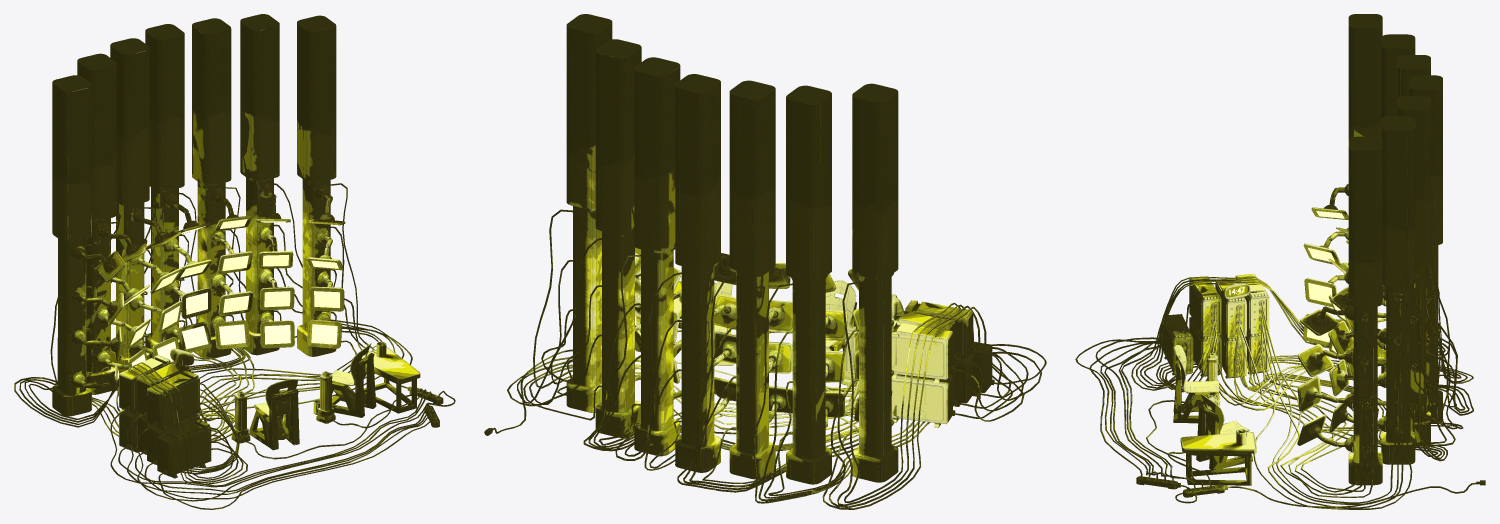
Rendered from Survilence-transformed.glb.
3 renders of one model, left to right at view 1: azimuth 30°, elevation 25°; view 2: azimuth 150°, elevation 25°; view 3: azimuth 270°, elevation 25°, orthographic. The views are drawn at different scales.
Visible parts, largest first — view 1: BezierCurve.002_2, BezierCurve.001_1, BezierCurve.004_4, BezierCurve.003_3; view 2: BezierCurve.002_2, BezierCurve.001_1, BezierCurve.004_4; view 3: BezierCurve.002_2, BezierCurve.001_1, BezierCurve.004_4, BezierCurve.003_3.
Boxes of the visible parts, box(x1,y1,x2,y2) form: BezierCurve.002_2: box(52, 14, 345, 416); BezierCurve.001_1: box(14, 183, 455, 509); BezierCurve.004_4: box(119, 342, 443, 478); BezierCurve.003_3: box(117, 219, 339, 379); BezierCurve.002_2: box(484, 14, 898, 484); BezierCurve.001_1: box(493, 209, 1046, 509); BezierCurve.004_4: box(635, 280, 994, 427); BezierCurve.002_2: box(1297, 14, 1485, 485); BezierCurve.001_1: box(1075, 187, 1476, 509); BezierCurve.004_4: box(1136, 273, 1269, 497); BezierCurve.003_3: box(1229, 211, 1351, 366).
Size of what is drawn, in the model's own units: 6.52 by 5.84 by 6.49.
3 materials, 2 textured.
